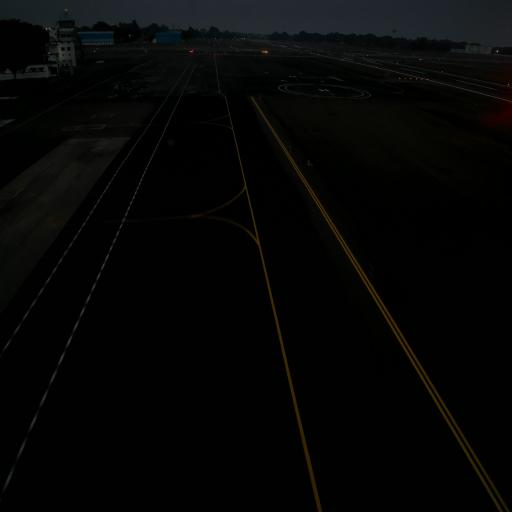on: (307, 158, 311, 166)
